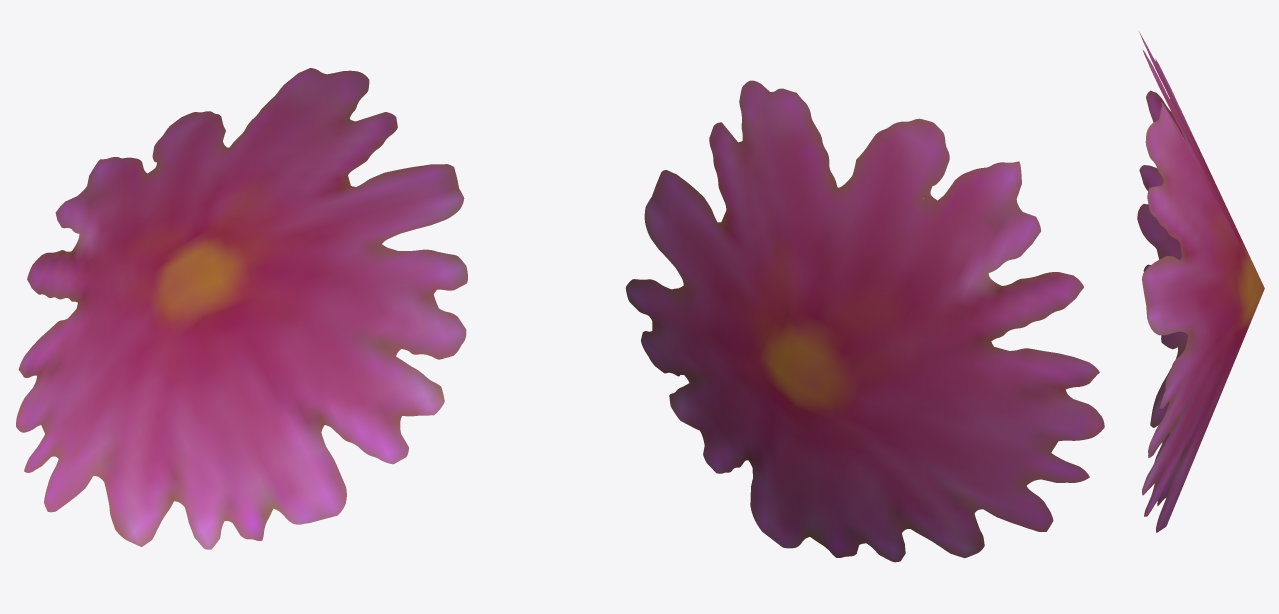
Rendered from desert_flower.FBX.
3 renders of one model, left to right at view 1: azimuth 30°, elevation 25°; view 2: azimuth 150°, elevation 25°; view 3: azimuth 270°, elevation 25°, orthographic. The views are drawn at different scales.
Parts seen in each view (by area): view 1: Object086; view 2: Object086; view 3: Object086.
Part boxes in pixels (x1,y1,x2,y2): Object086: (16, 68, 467, 549); Object086: (625, 80, 1104, 562); Object086: (1137, 32, 1264, 532).
Bounding box in the file's own units: 6.67 × 1.51 × 7.02.
